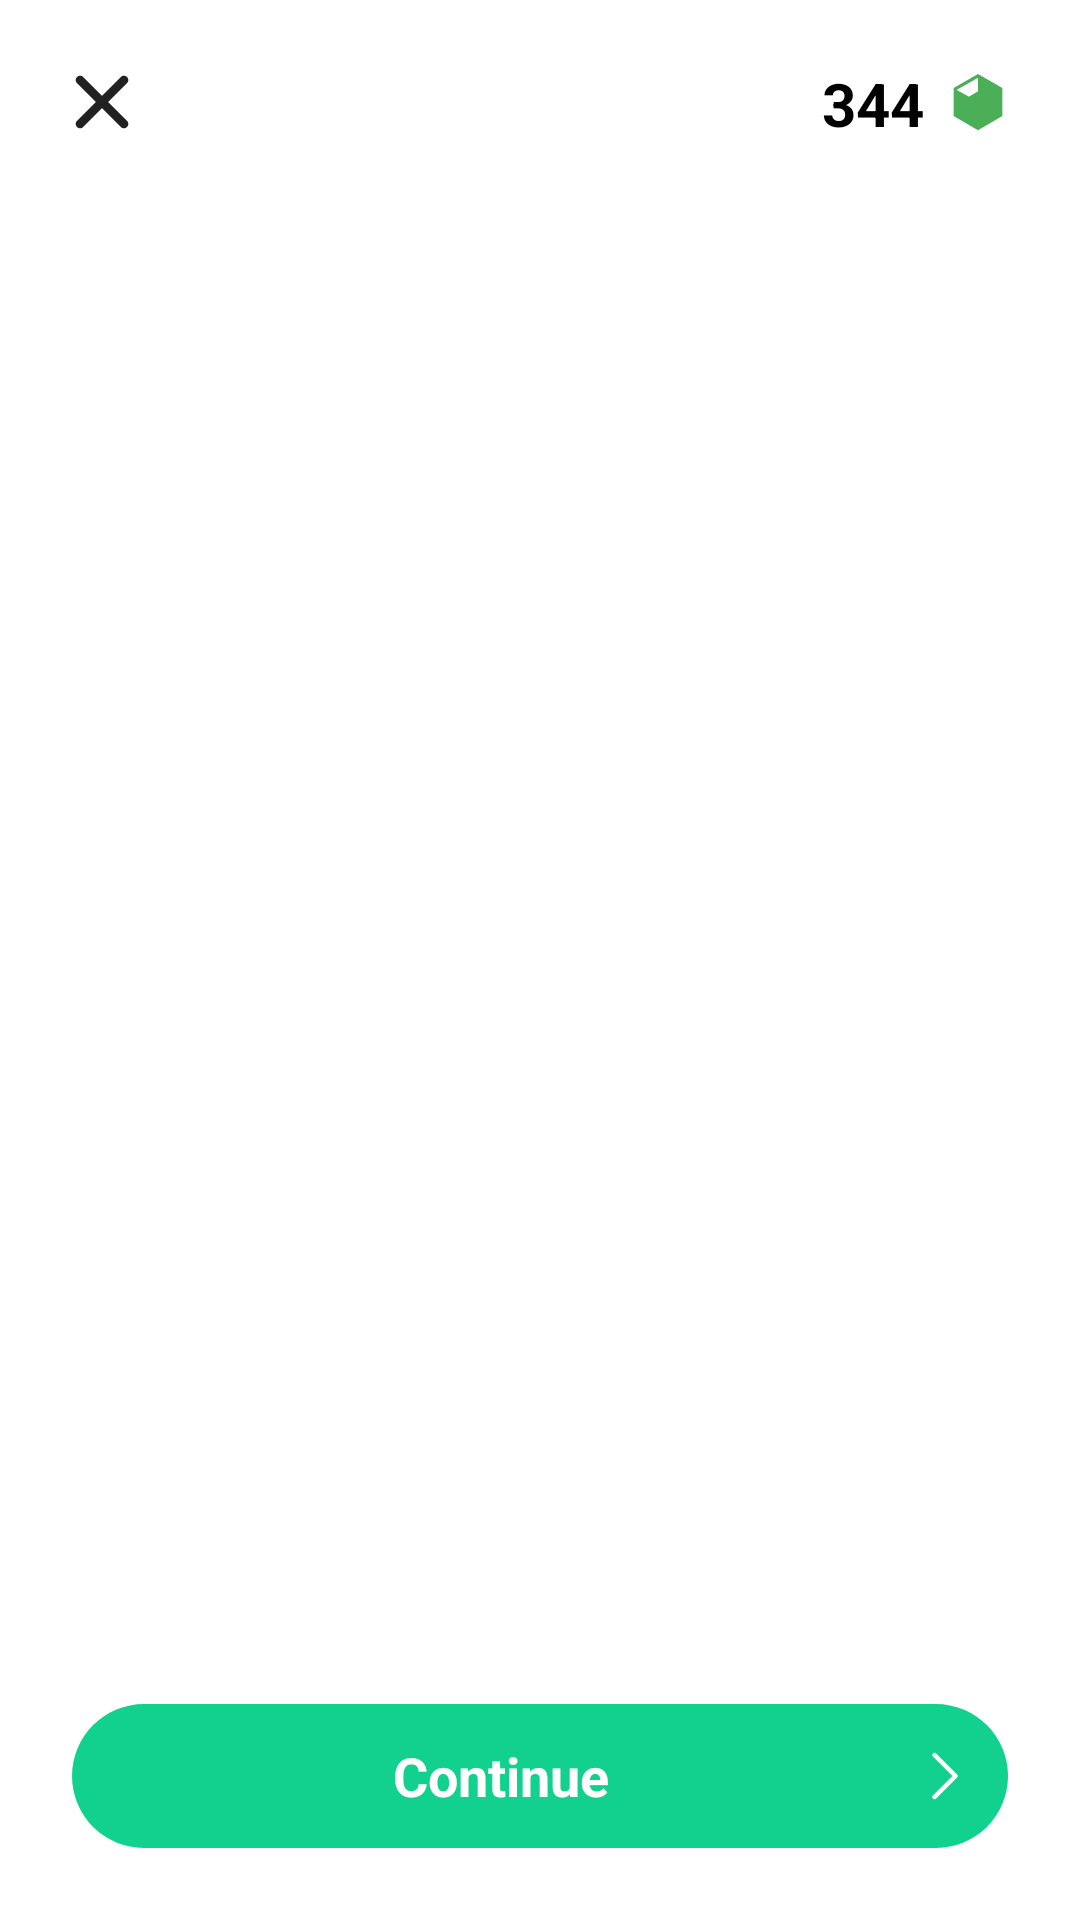

Screen size 1080px x 1920px. Icon name, then its center in pixels as (x=x, y=y):
almaz: (x=978, y=102)
close: (x=102, y=102)
